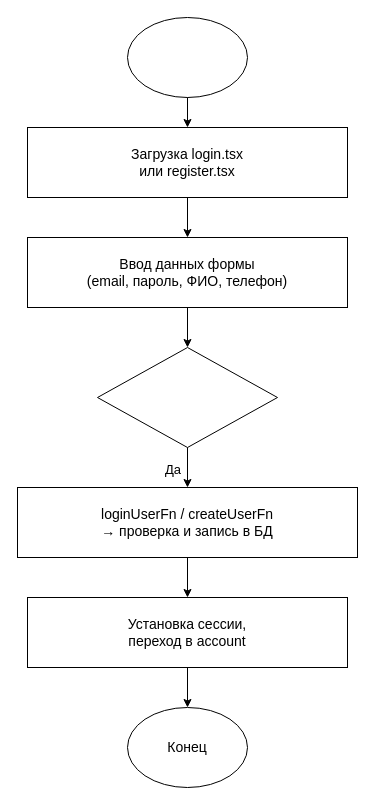
Image size: 375x805. Some labels were removed from this diagram. Here are the shapes that lost their labels. From the top down, the box of each, then its label:
(126, 16, 248, 98): Начало
(96, 346, 278, 448): Отправка формы?
